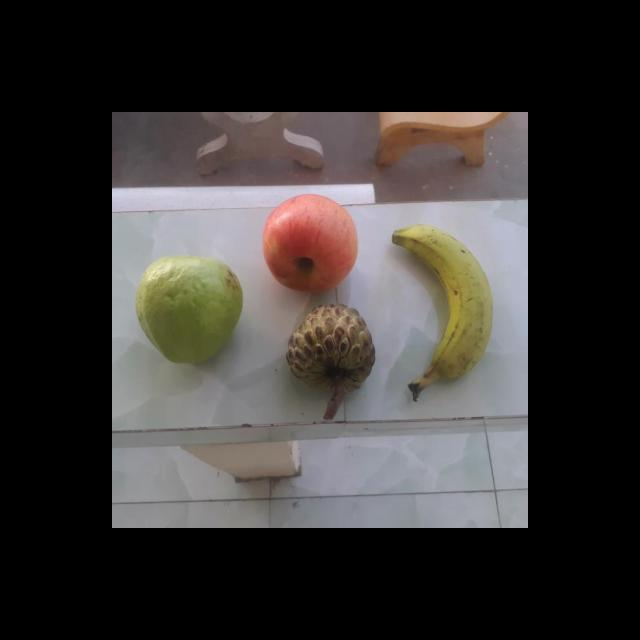Sakya fruit: (284, 301, 375, 397)
apple: (258, 188, 360, 291)
banana: (388, 227, 492, 386)
guava: (133, 254, 240, 360)
